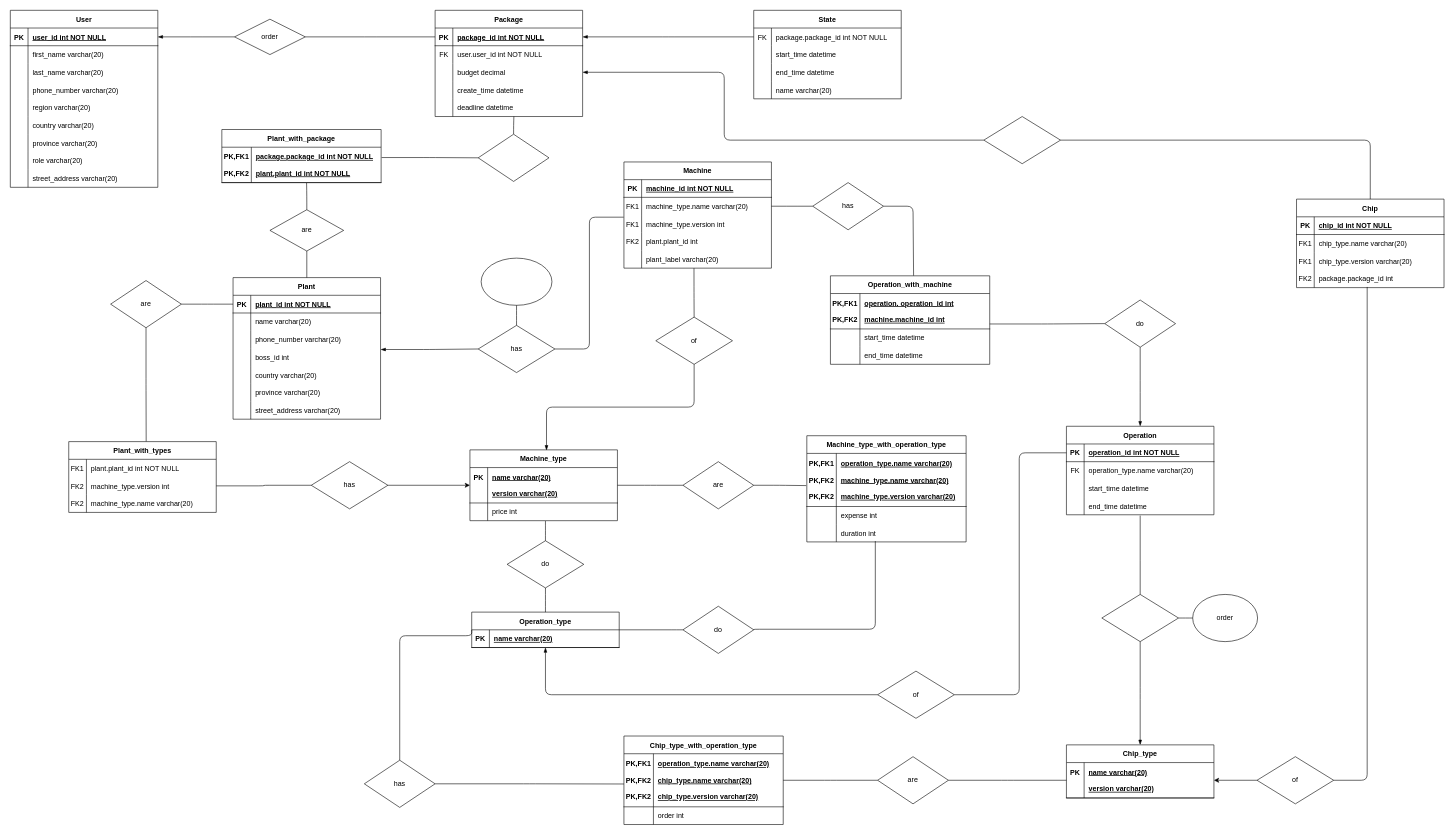
Image size: 1454x835. Some labels were removed from this diagram. Each missing label, with the centre of its shape:
consists of: point (1022, 140)
label: point (516, 281)
needs: point (1140, 618)
produce: point (513, 157)
